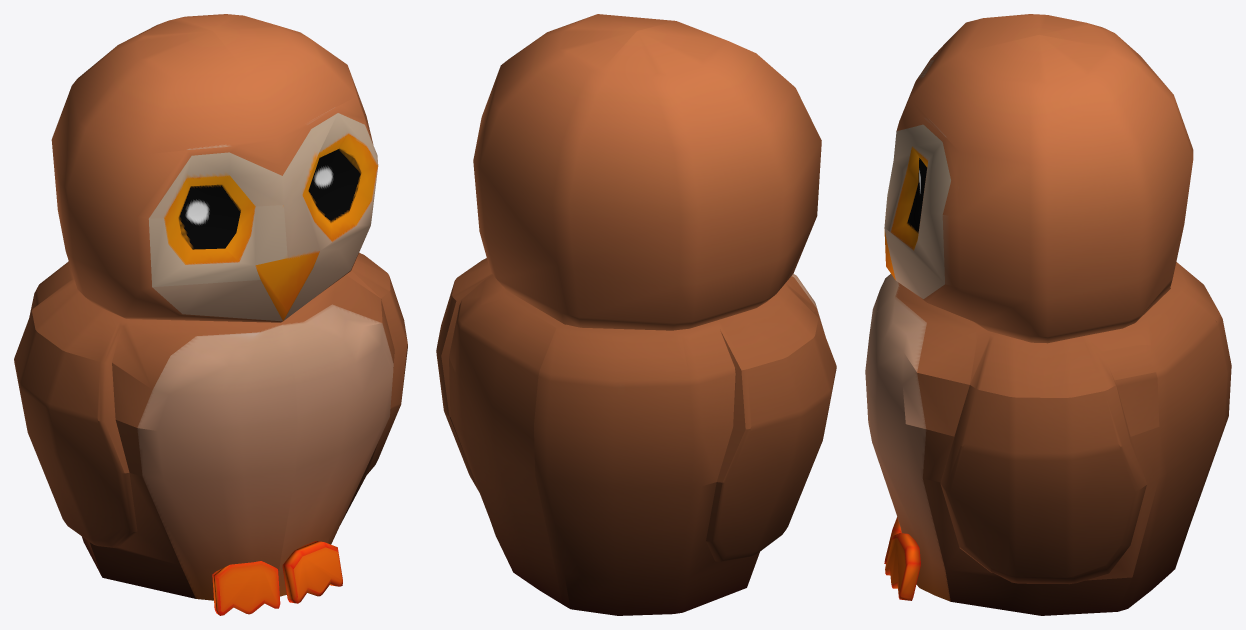
The model's file is New_Final_Owl.fbx.
The picture shows the model from 3 angles, left to right: view 1: azimuth 30°, elevation 25°; view 2: azimuth 150°, elevation 25°; view 3: azimuth 270°, elevation 25°; orthographic projection. The views are drawn at different scales.
Parts seen in each view (by area): view 1: Object, head, Cube; view 2: Object, head; view 3: Object, head, Cube.
Boxes of the visible parts, x1,y1,x2,y2 form: Object: (14,252,407,600); head: (51,14,378,322); Cube: (212,541,342,615); Object: (436,258,836,615); head: (473,14,821,330); Object: (865,262,1231,615); head: (884,14,1193,343); Cube: (884,517,920,600).
Bounding box in the file's own units: 195 × 273 × 169.
